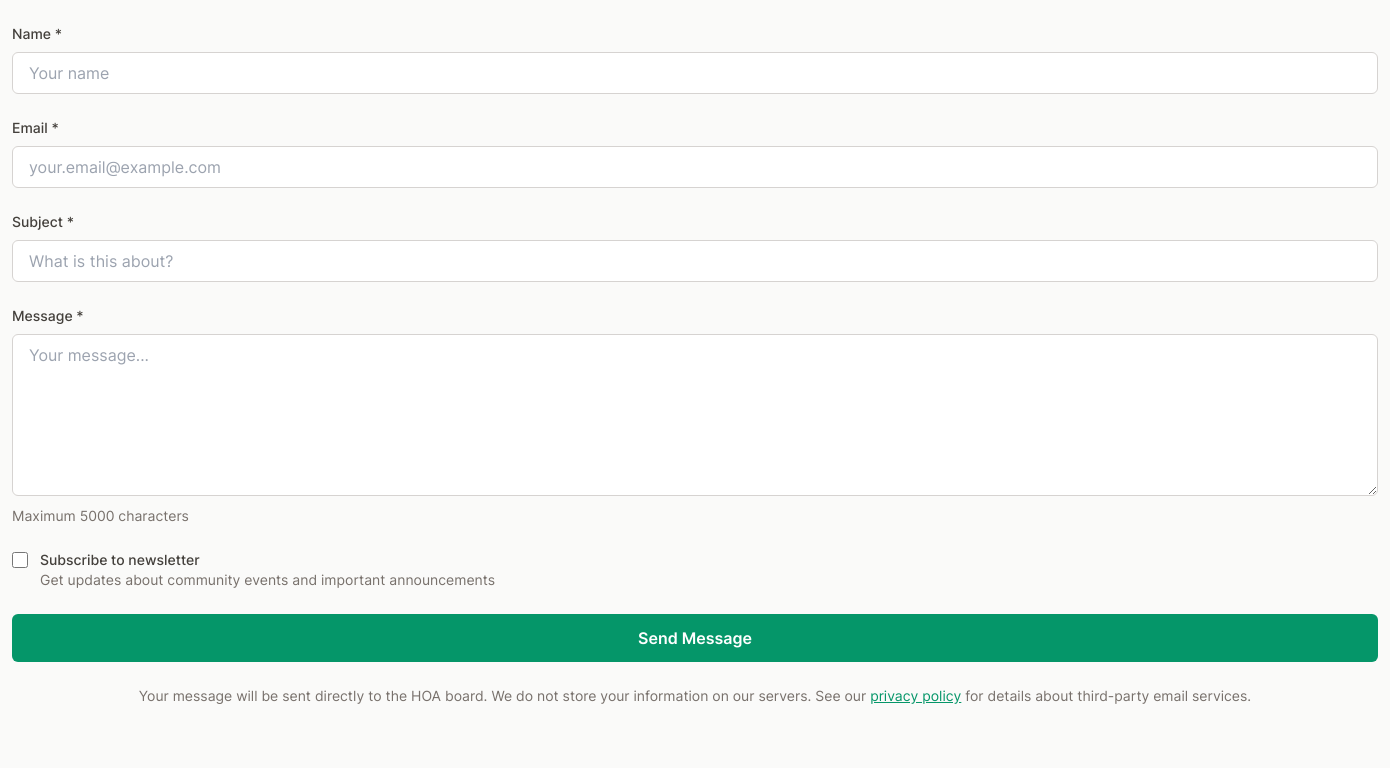
Test case: ContactForm › should show error message when form submission fails
Note: Fill out the form
Type "John Doe" into the field with test id "name-input" at (695, 73), box x1=12 y1=52 x2=1378 y2=94
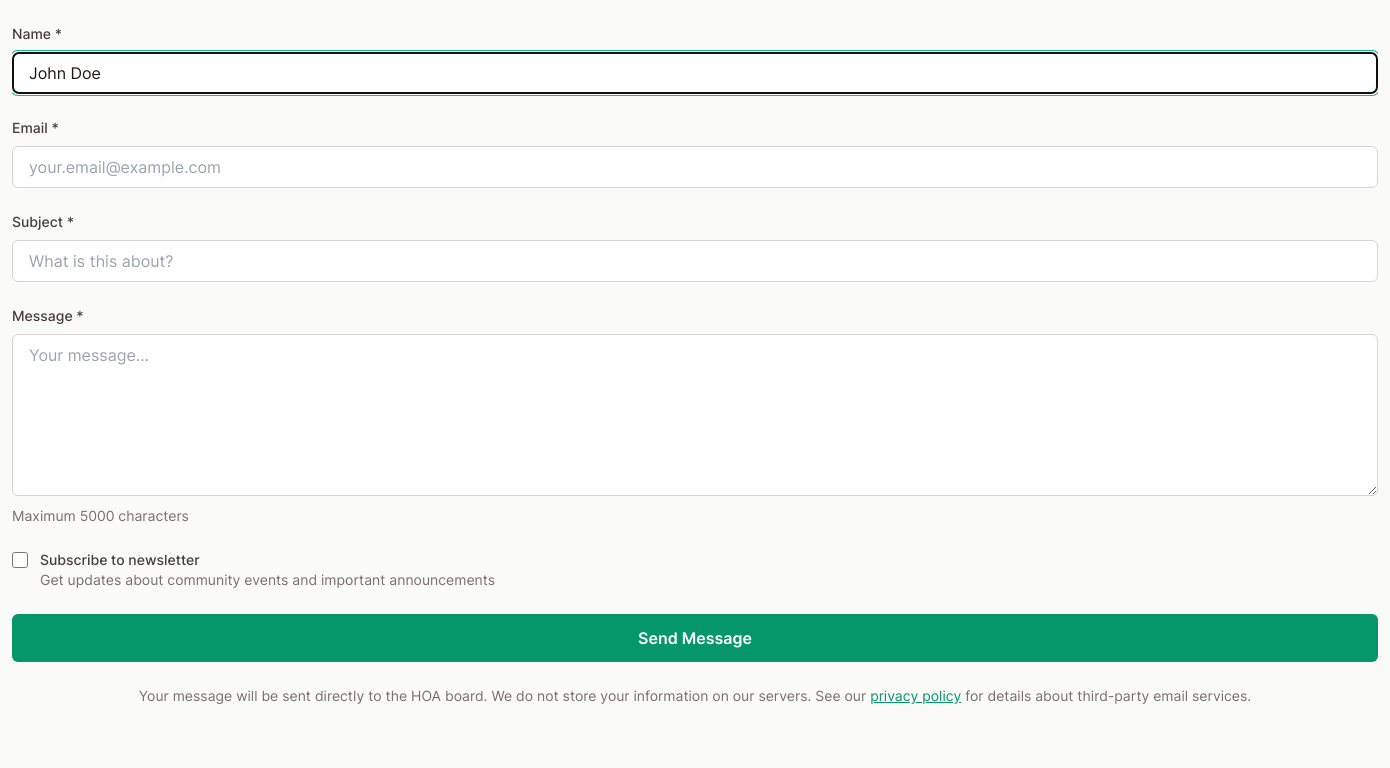
Type "john@example.com" into the field with test id "email-input" at (695, 167), box x1=12 y1=146 x2=1378 y2=188
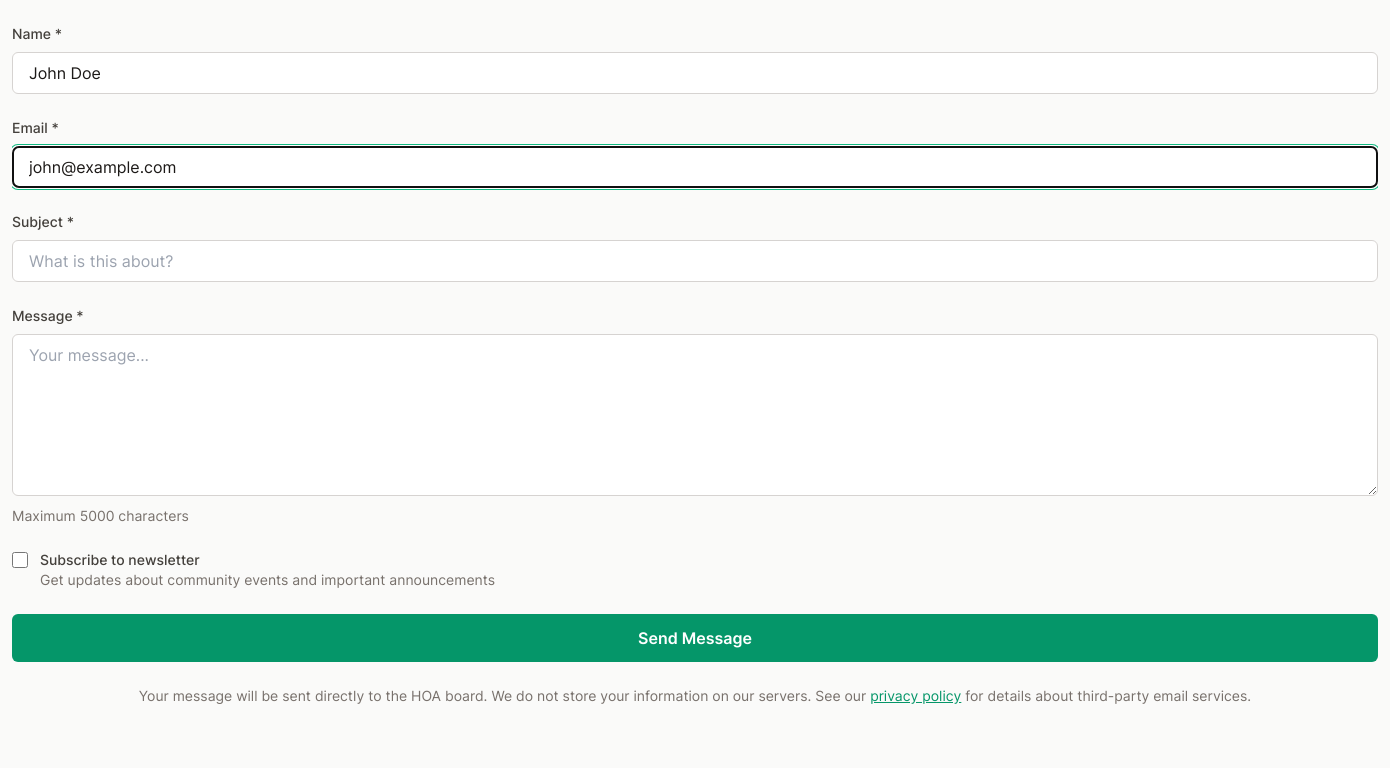
Type "Test Subject" into the field with test id "subject-input" at (695, 261), box x1=12 y1=240 x2=1378 y2=282
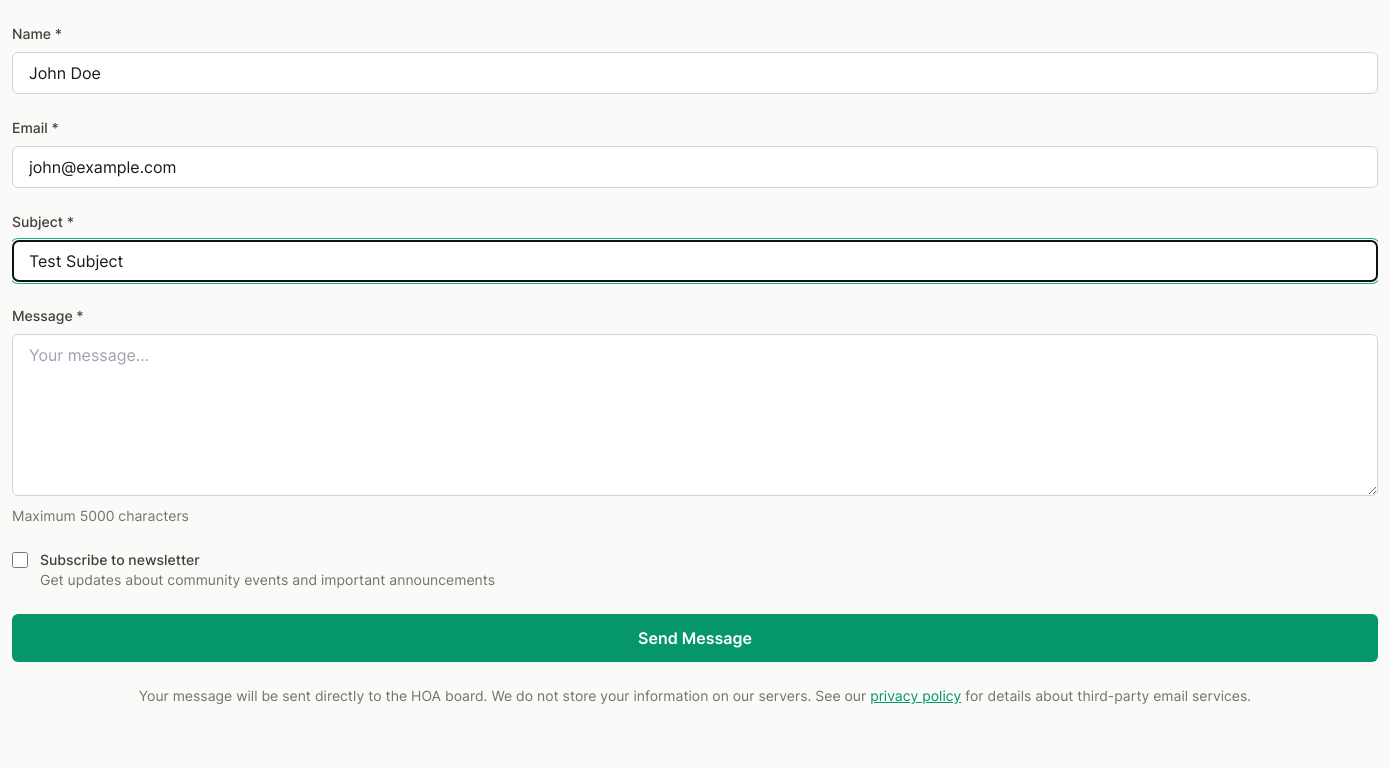
Type "Test message" into the text box with test id "message-input" at (695, 415), box x1=12 y1=334 x2=1378 y2=496
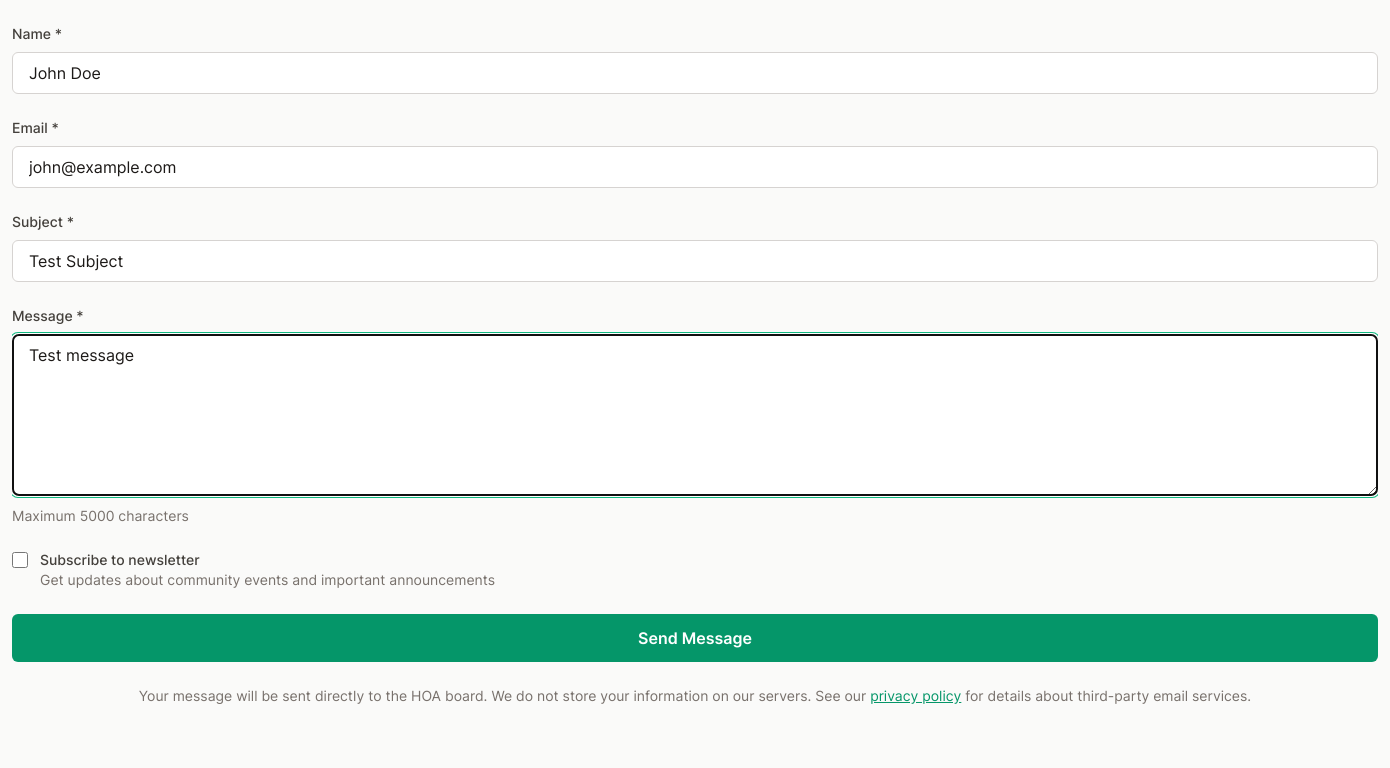
Note: Submit the form
Click the button with test id "submit-button" at (695, 638), box x1=12 y1=614 x2=1378 y2=662
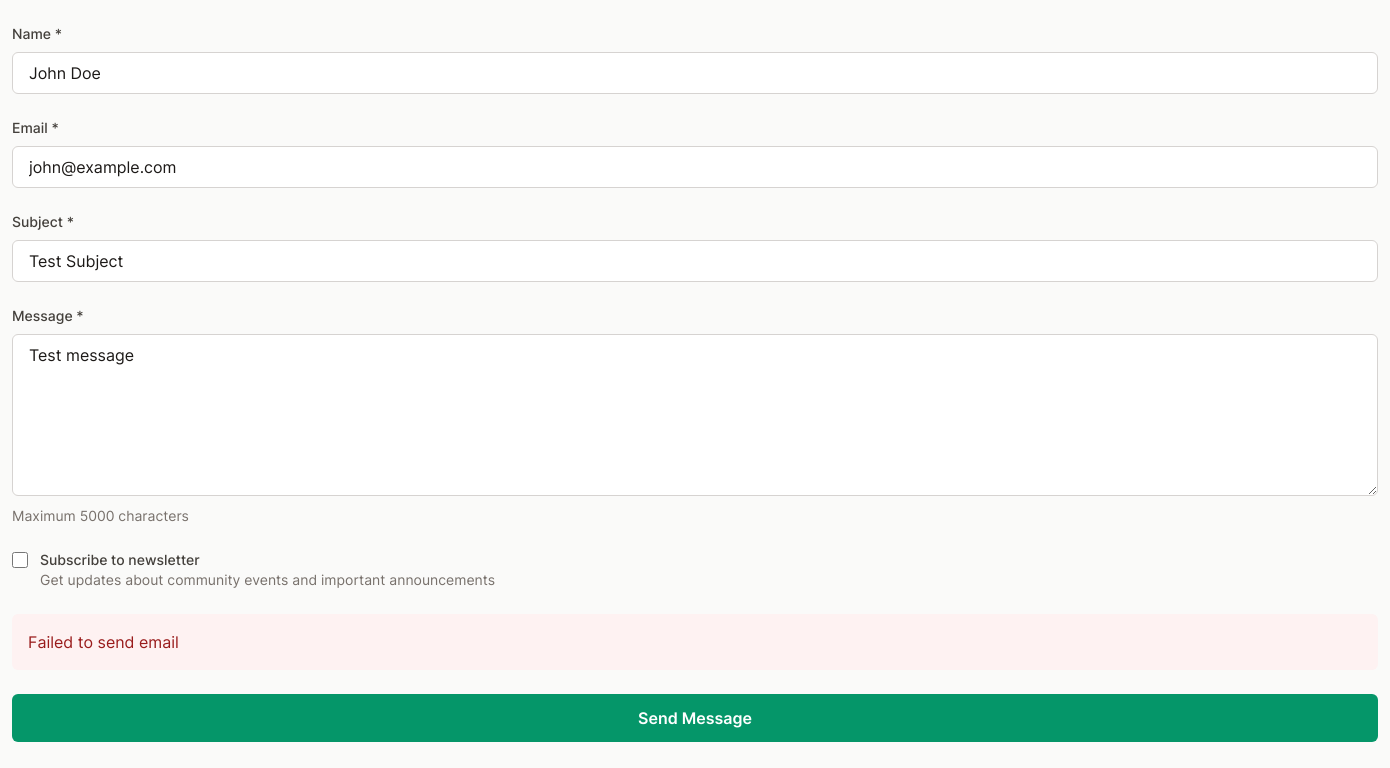
Result: the text "Failed to send email" is shown at x1=12 y1=614 x2=1378 y2=670
Result: the text with test id "error-message" reads "Failed to send email" at x1=28 y1=632 x2=179 y2=652
